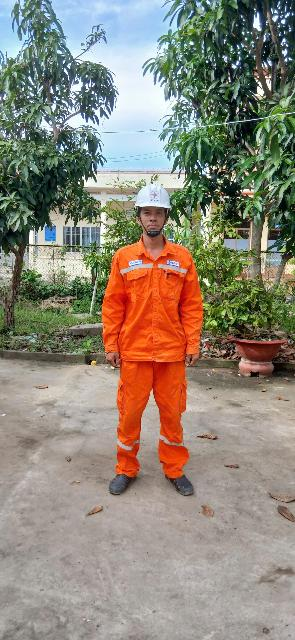helmet: (130, 184, 178, 216)
shoes: (96, 460, 149, 508), (158, 461, 201, 507)
